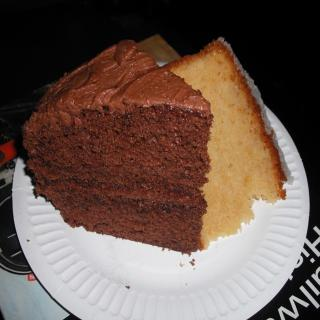Cake: (18, 40, 294, 254)
